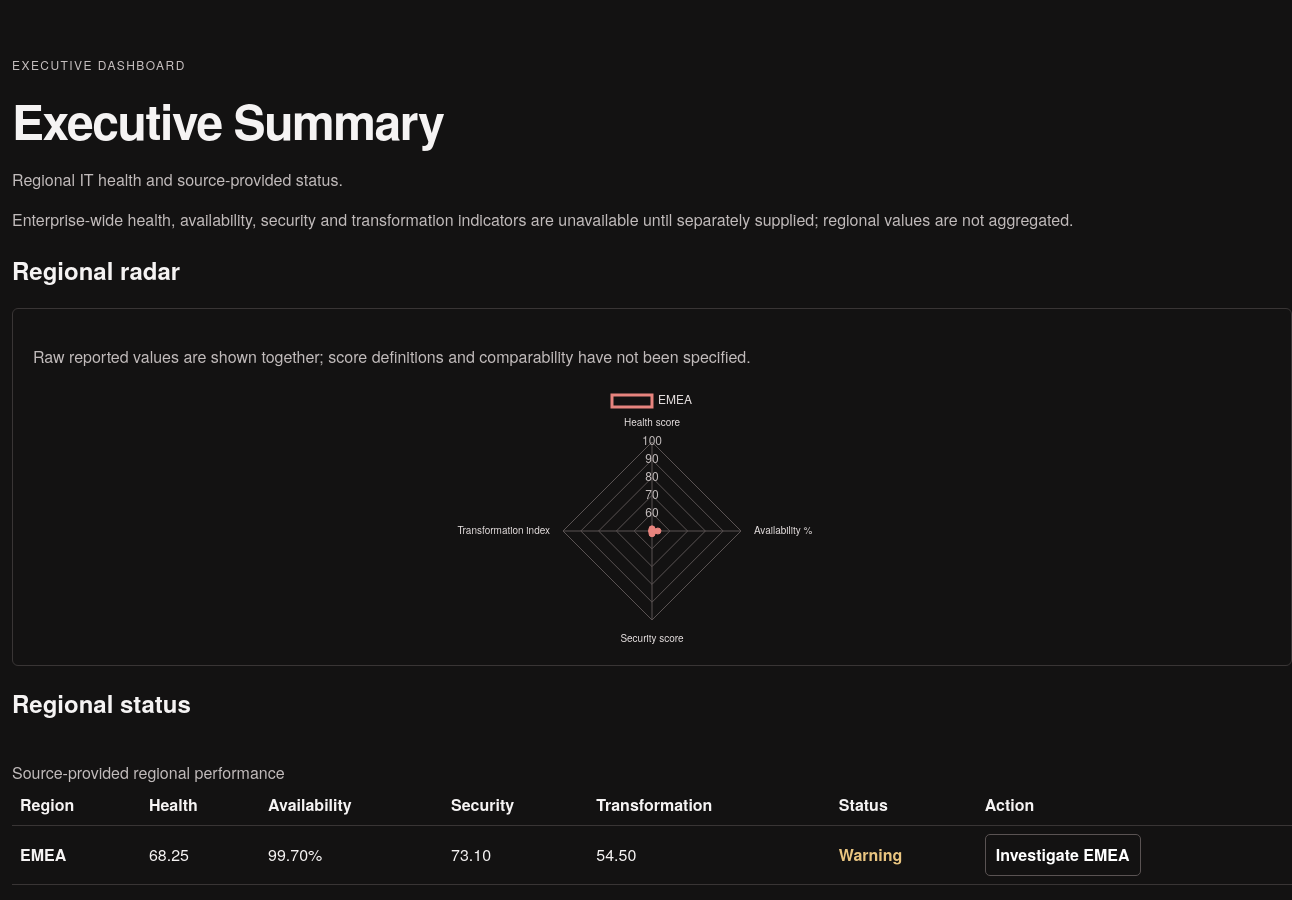
Test case: Regional dashboard › shows source scores and investigates warning regions
Later steps or results of the test are not shown.
Expected: the picture named "Regional health radar comparison" is shown, [33, 385, 1271, 645]
Expected: the text "99.70%" is shown, [260, 826, 443, 885]
Click the button "Investigate EMEA" at (1063, 855), box [985, 834, 1140, 876]
(page scrolled)
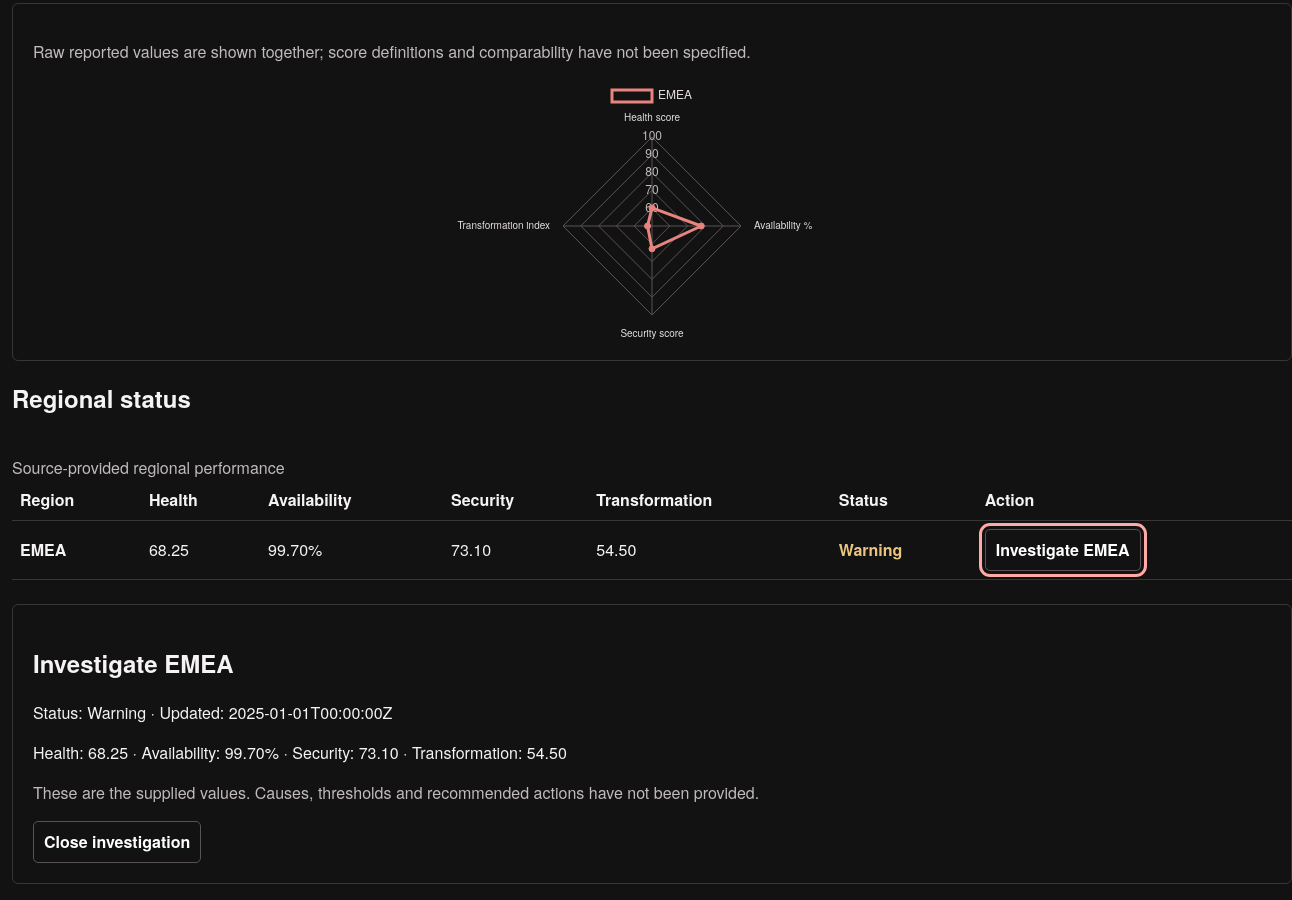
Expected: the heading "Investigate EMEA" is shown, [33, 646, 234, 680]
Expected: the text "Causes, thresholds" is shown, [33, 781, 759, 804]
